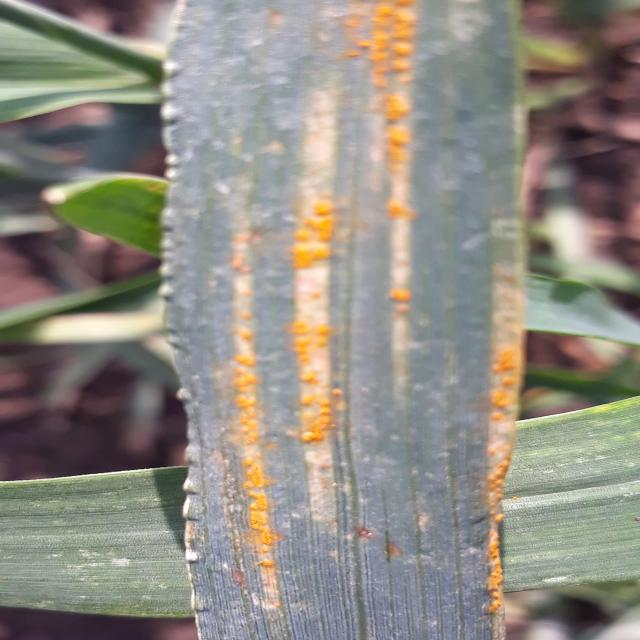yellow_rust: (127, 19, 565, 620)
